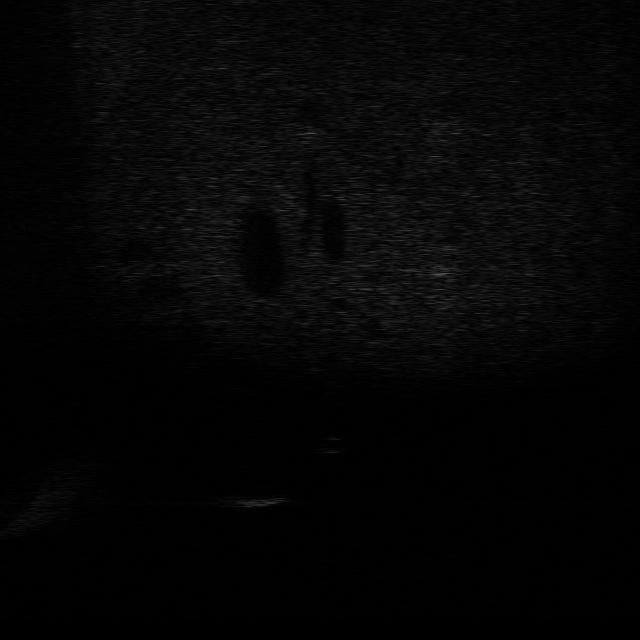ball: (314, 434, 350, 454)
human body: (297, 348, 335, 400)
square cage: (222, 483, 298, 511)
